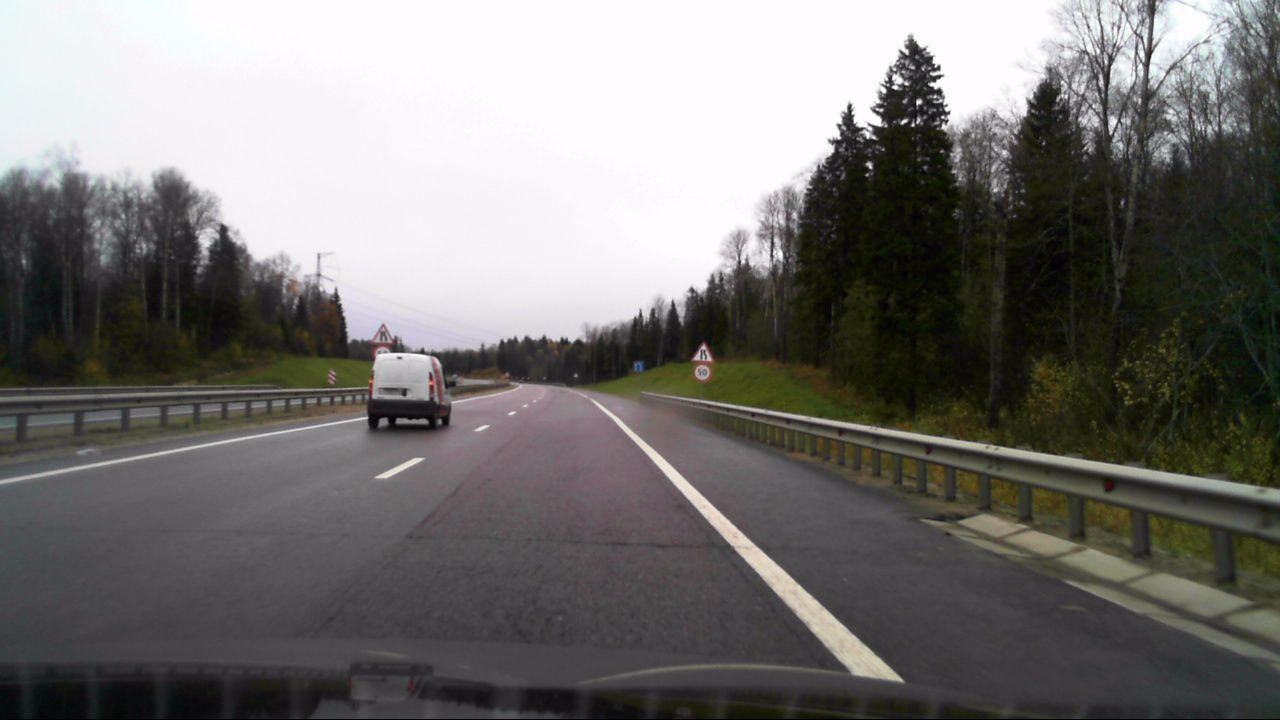1_20_2: (372, 322, 395, 344), (691, 341, 714, 362)
3_24: (370, 345, 392, 363), (692, 364, 713, 382)
